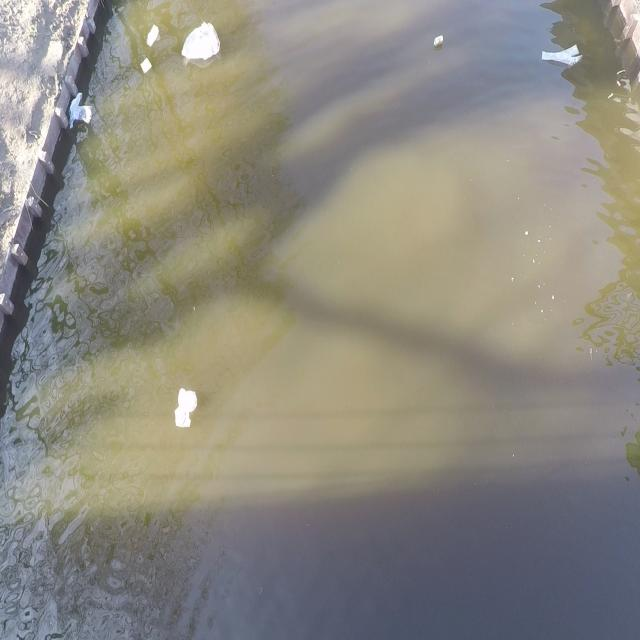Autre plastique: (172, 386, 199, 431), (140, 58, 155, 76)
Non plastique: (433, 34, 445, 50)
